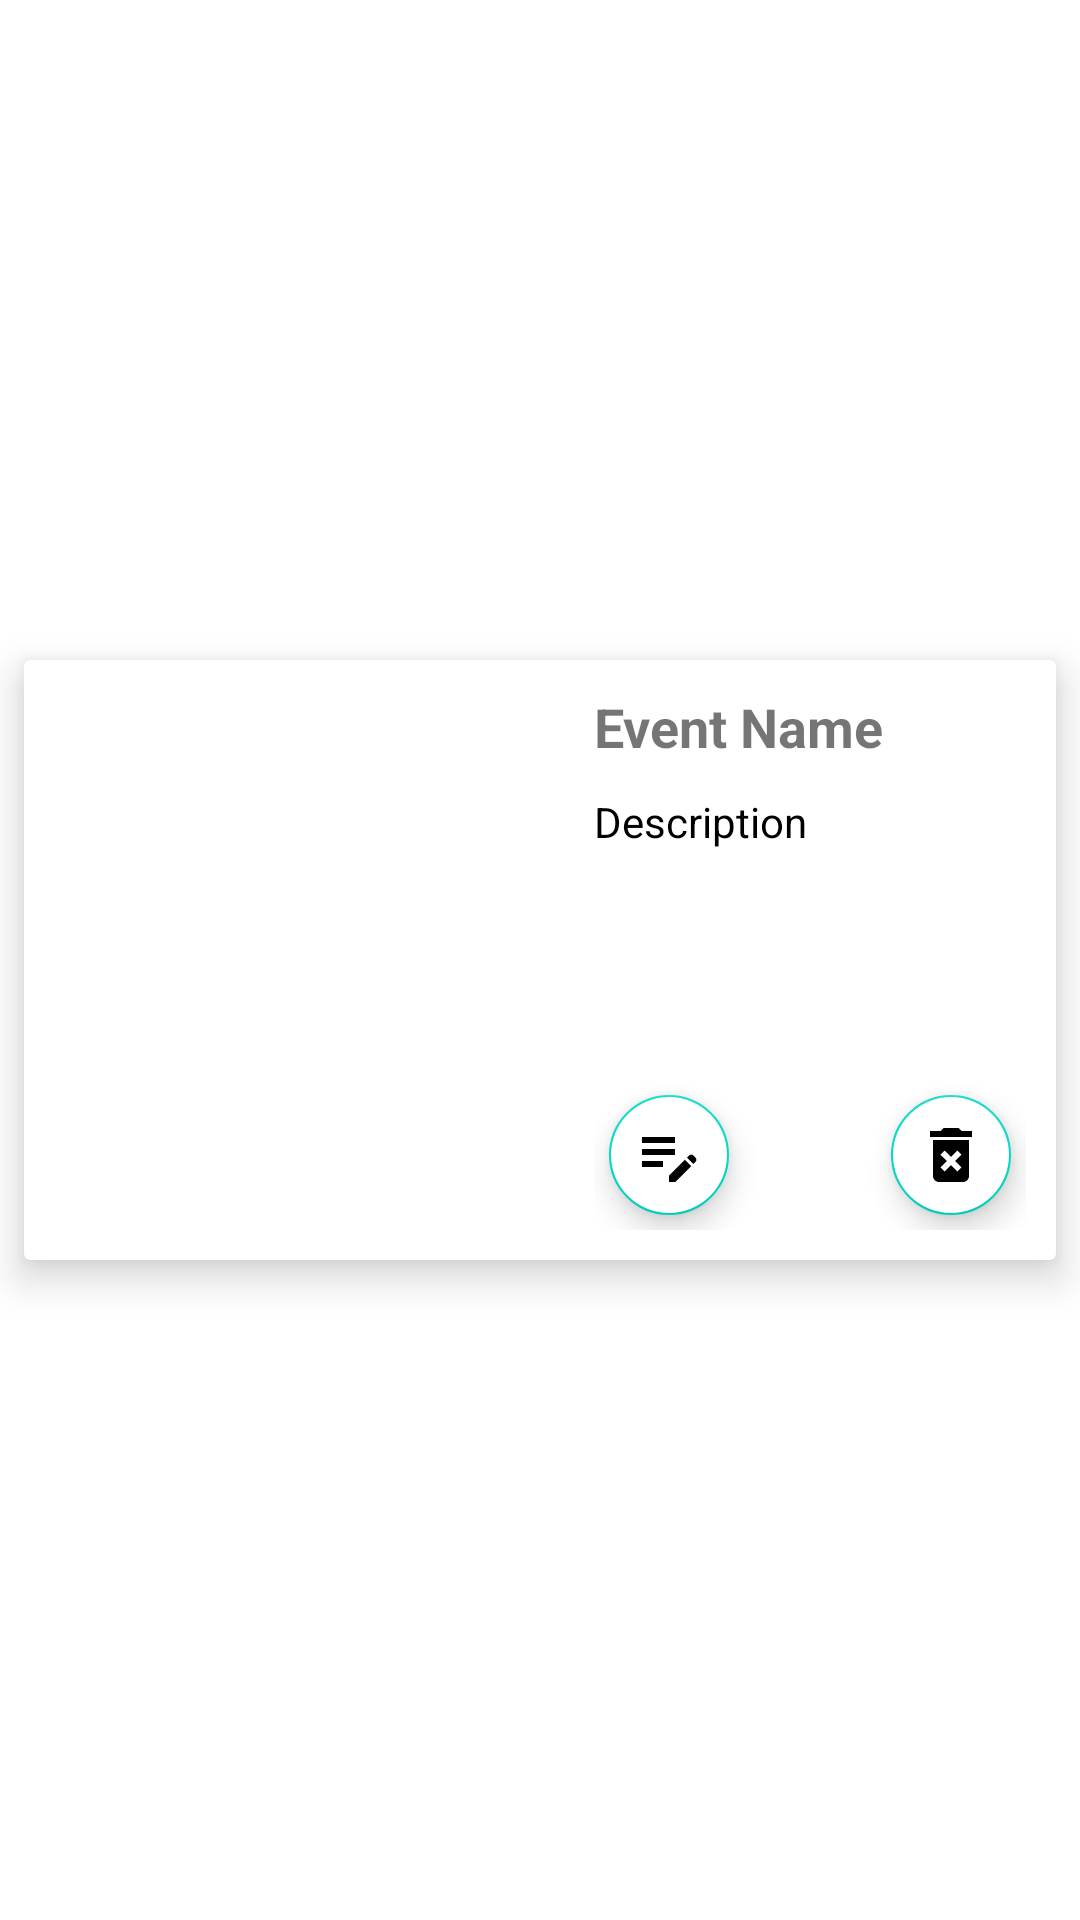

Where to tap for icons on this 1080 × 1920 app screen, as (x,y):
delete forever: (952,1159)
edit note: (669,1159)
